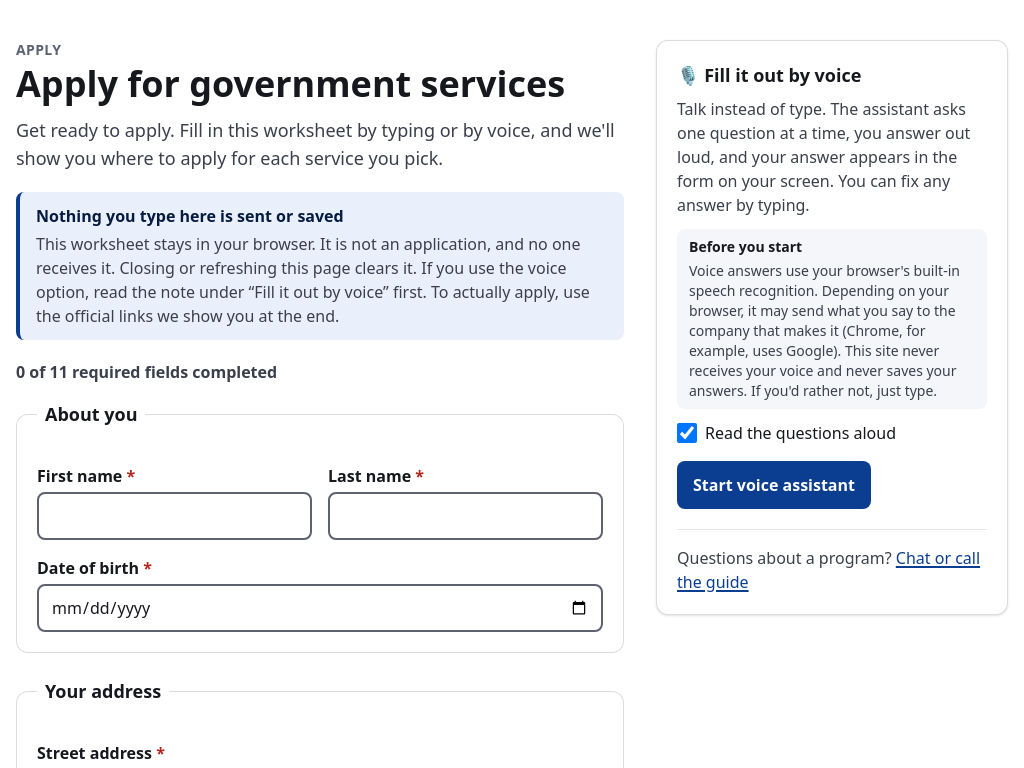
Test: <Apply /> › starts at 0 of 11 required fields and counts up as they are filled
This screenshot has width=1024, height=768.
Expected: the text "0 of 11 required fields completed" is shown, [16, 361, 277, 383]
Type "Jordan" into the field labelled "First name *".
click(174, 516); type("Jordan")  # box [37, 492, 312, 540]
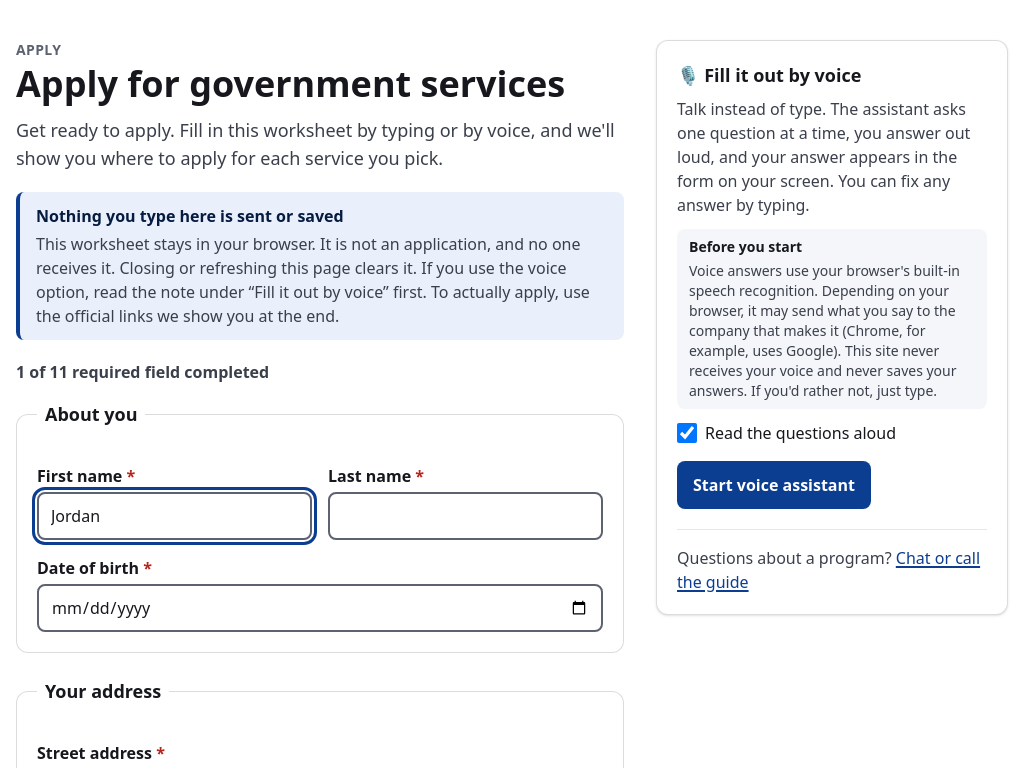
Result: the text "1 of 11 required field completed" is shown at [16, 361, 269, 383]
